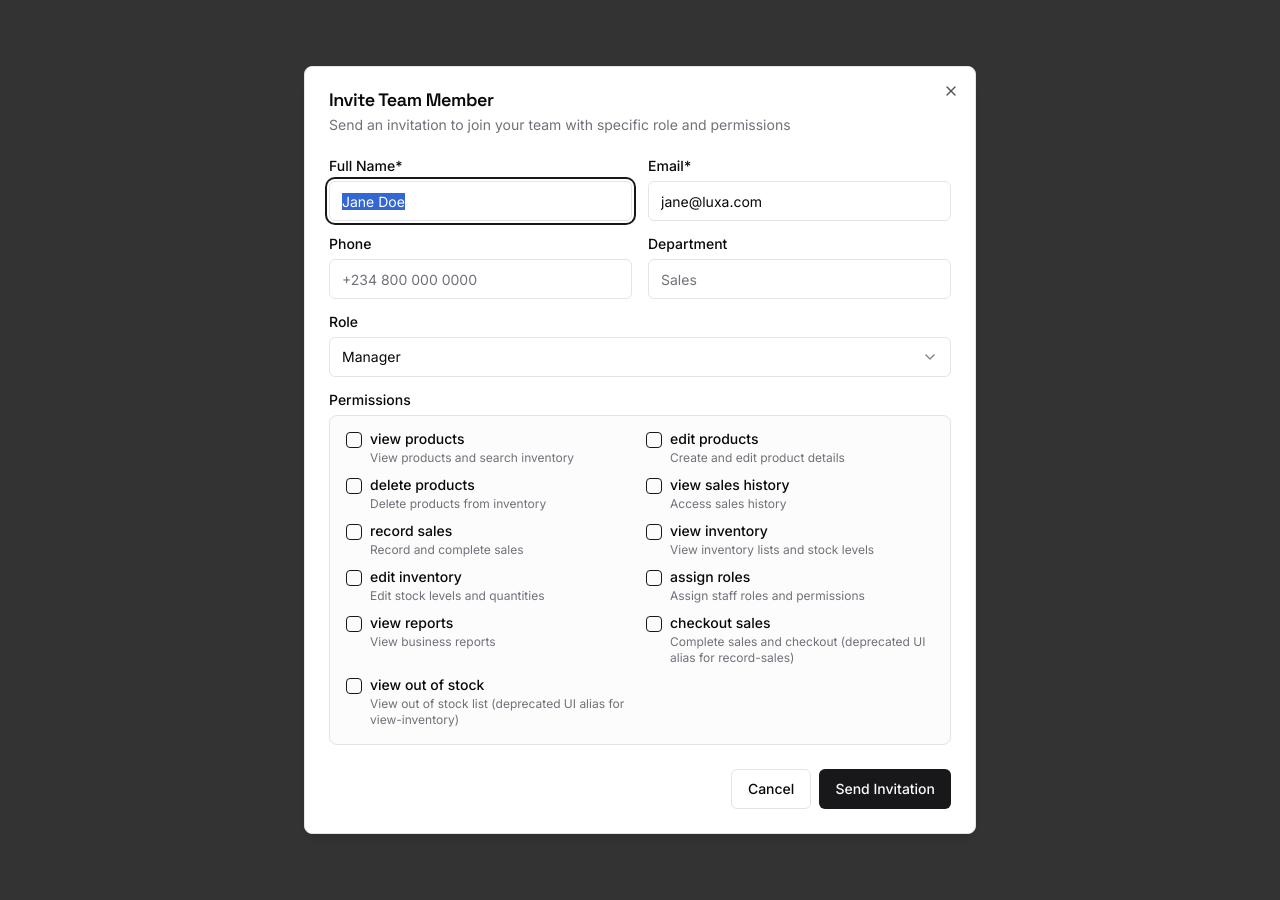
Test: AddMemberDialog › offers investor as an invitable role
Step 1. Click the dropdown → (371, 356), box [329,337,951,377]
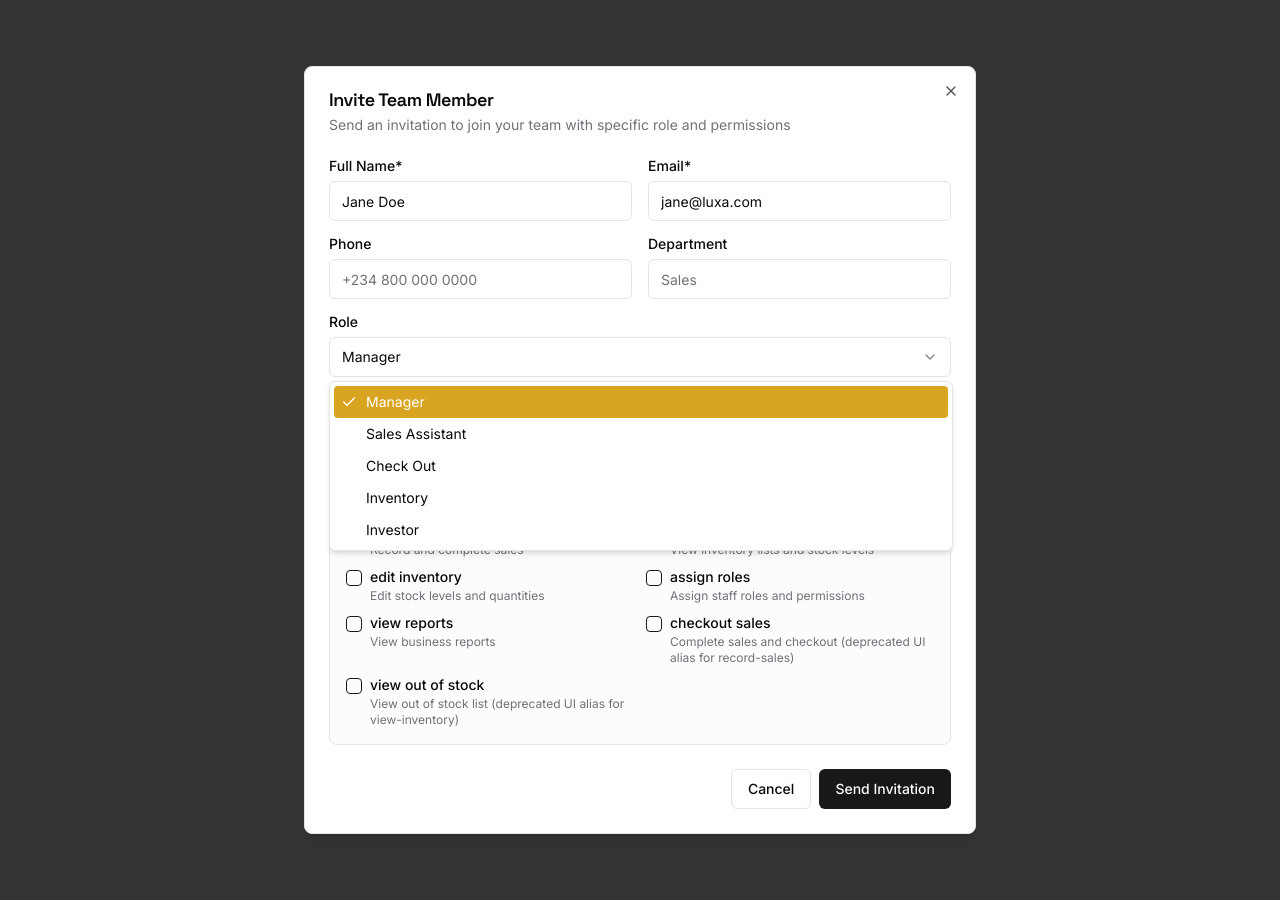
Now the text "Investor" is shown, box [366,520,419,540]
